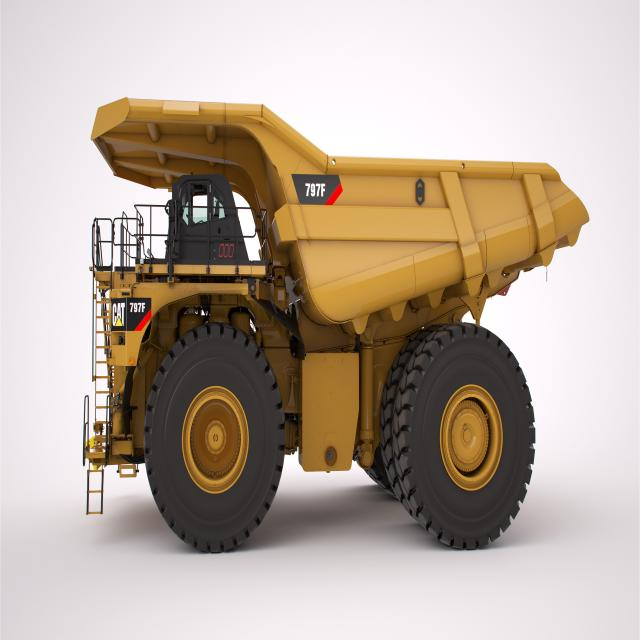dump_truck: (81, 83, 591, 565)
